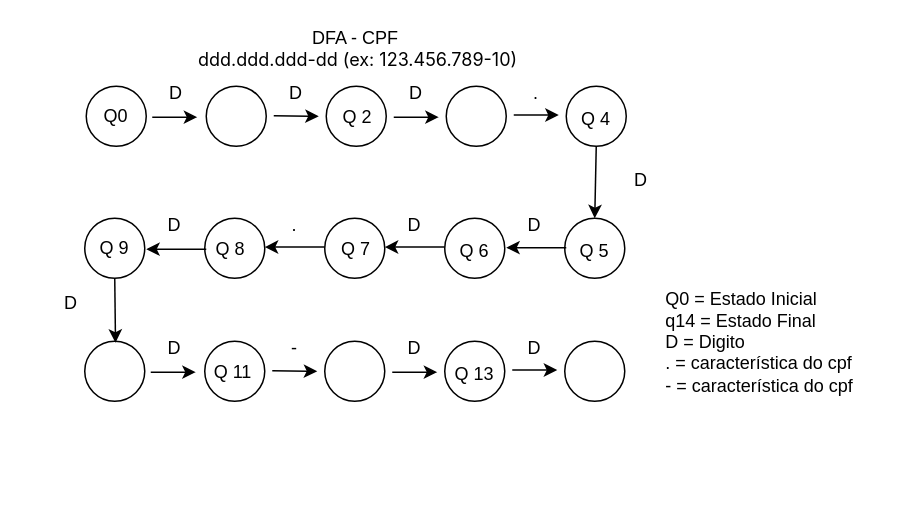
Image size: 920x524. Some labels were removed from this diagram. The shapes that lost their labels are listed below. From the top down, each one's box as (x1, y1, x2, y2) in pixels, then its label:
(205, 85, 266, 146): Q 1
(445, 85, 506, 146): Q 3
(83, 340, 145, 401): Q 10
(323, 340, 385, 401): Q 12
(563, 340, 625, 401): Q 14
